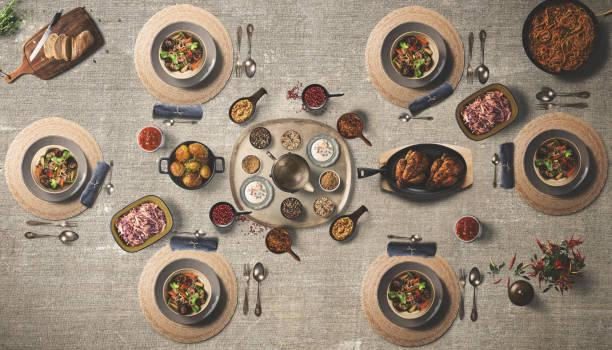Braised Crucian Carp: (521, 0, 601, 78), (377, 142, 474, 198), (377, 260, 448, 329), (523, 127, 593, 196), (379, 20, 448, 90), (149, 19, 217, 89), (21, 134, 88, 202), (154, 258, 223, 324), (455, 82, 518, 141), (110, 194, 174, 252), (158, 140, 224, 189)
